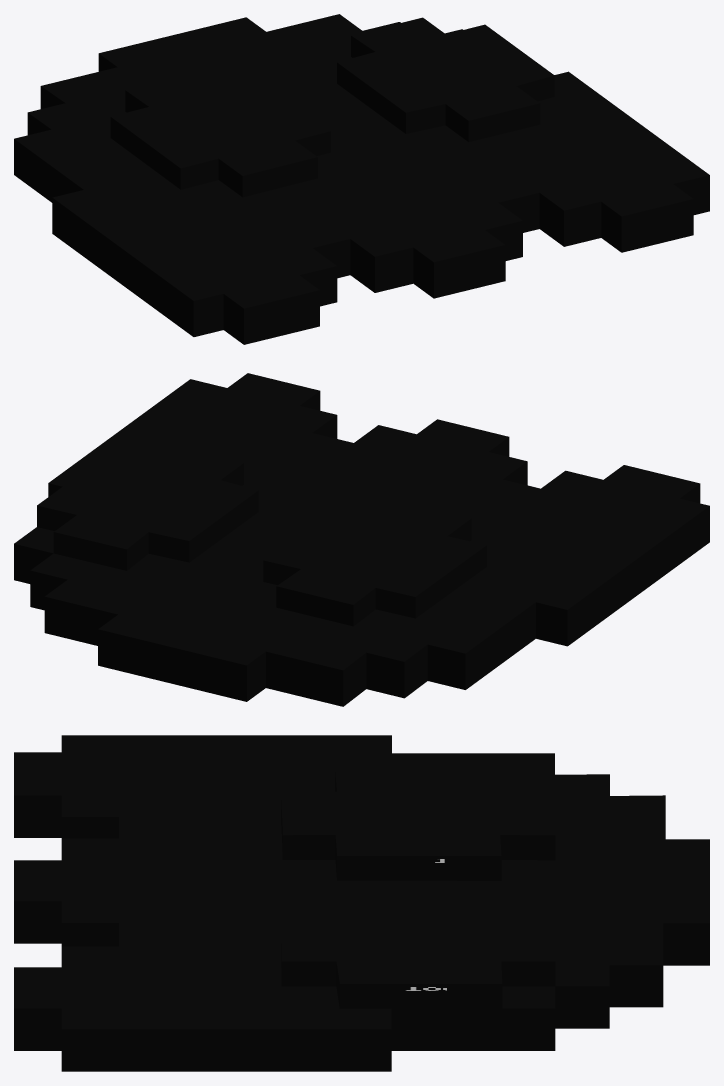
File: ghost.dae
The picture shows the model from 3 angles, top to bottom: view 1: azimuth 30°, elevation 25°; view 2: azimuth 150°, elevation 25°; view 3: azimuth 270°, elevation 25°; orthographic projection. The views are drawn at different scales.
Visible parts, largest first — view 1: 13.2.163.0; view 2: 13.2.163.0; view 3: 13.2.163.0.
Boxes of the visible parts, x1,y1,x2,y2 form: 13.2.163.0: [14, 14, 709, 344]; 13.2.163.0: [14, 373, 709, 706]; 13.2.163.0: [14, 735, 709, 1071].
Bounding box in the file's own units: 5.41 × 5.41 × 0.5755.
